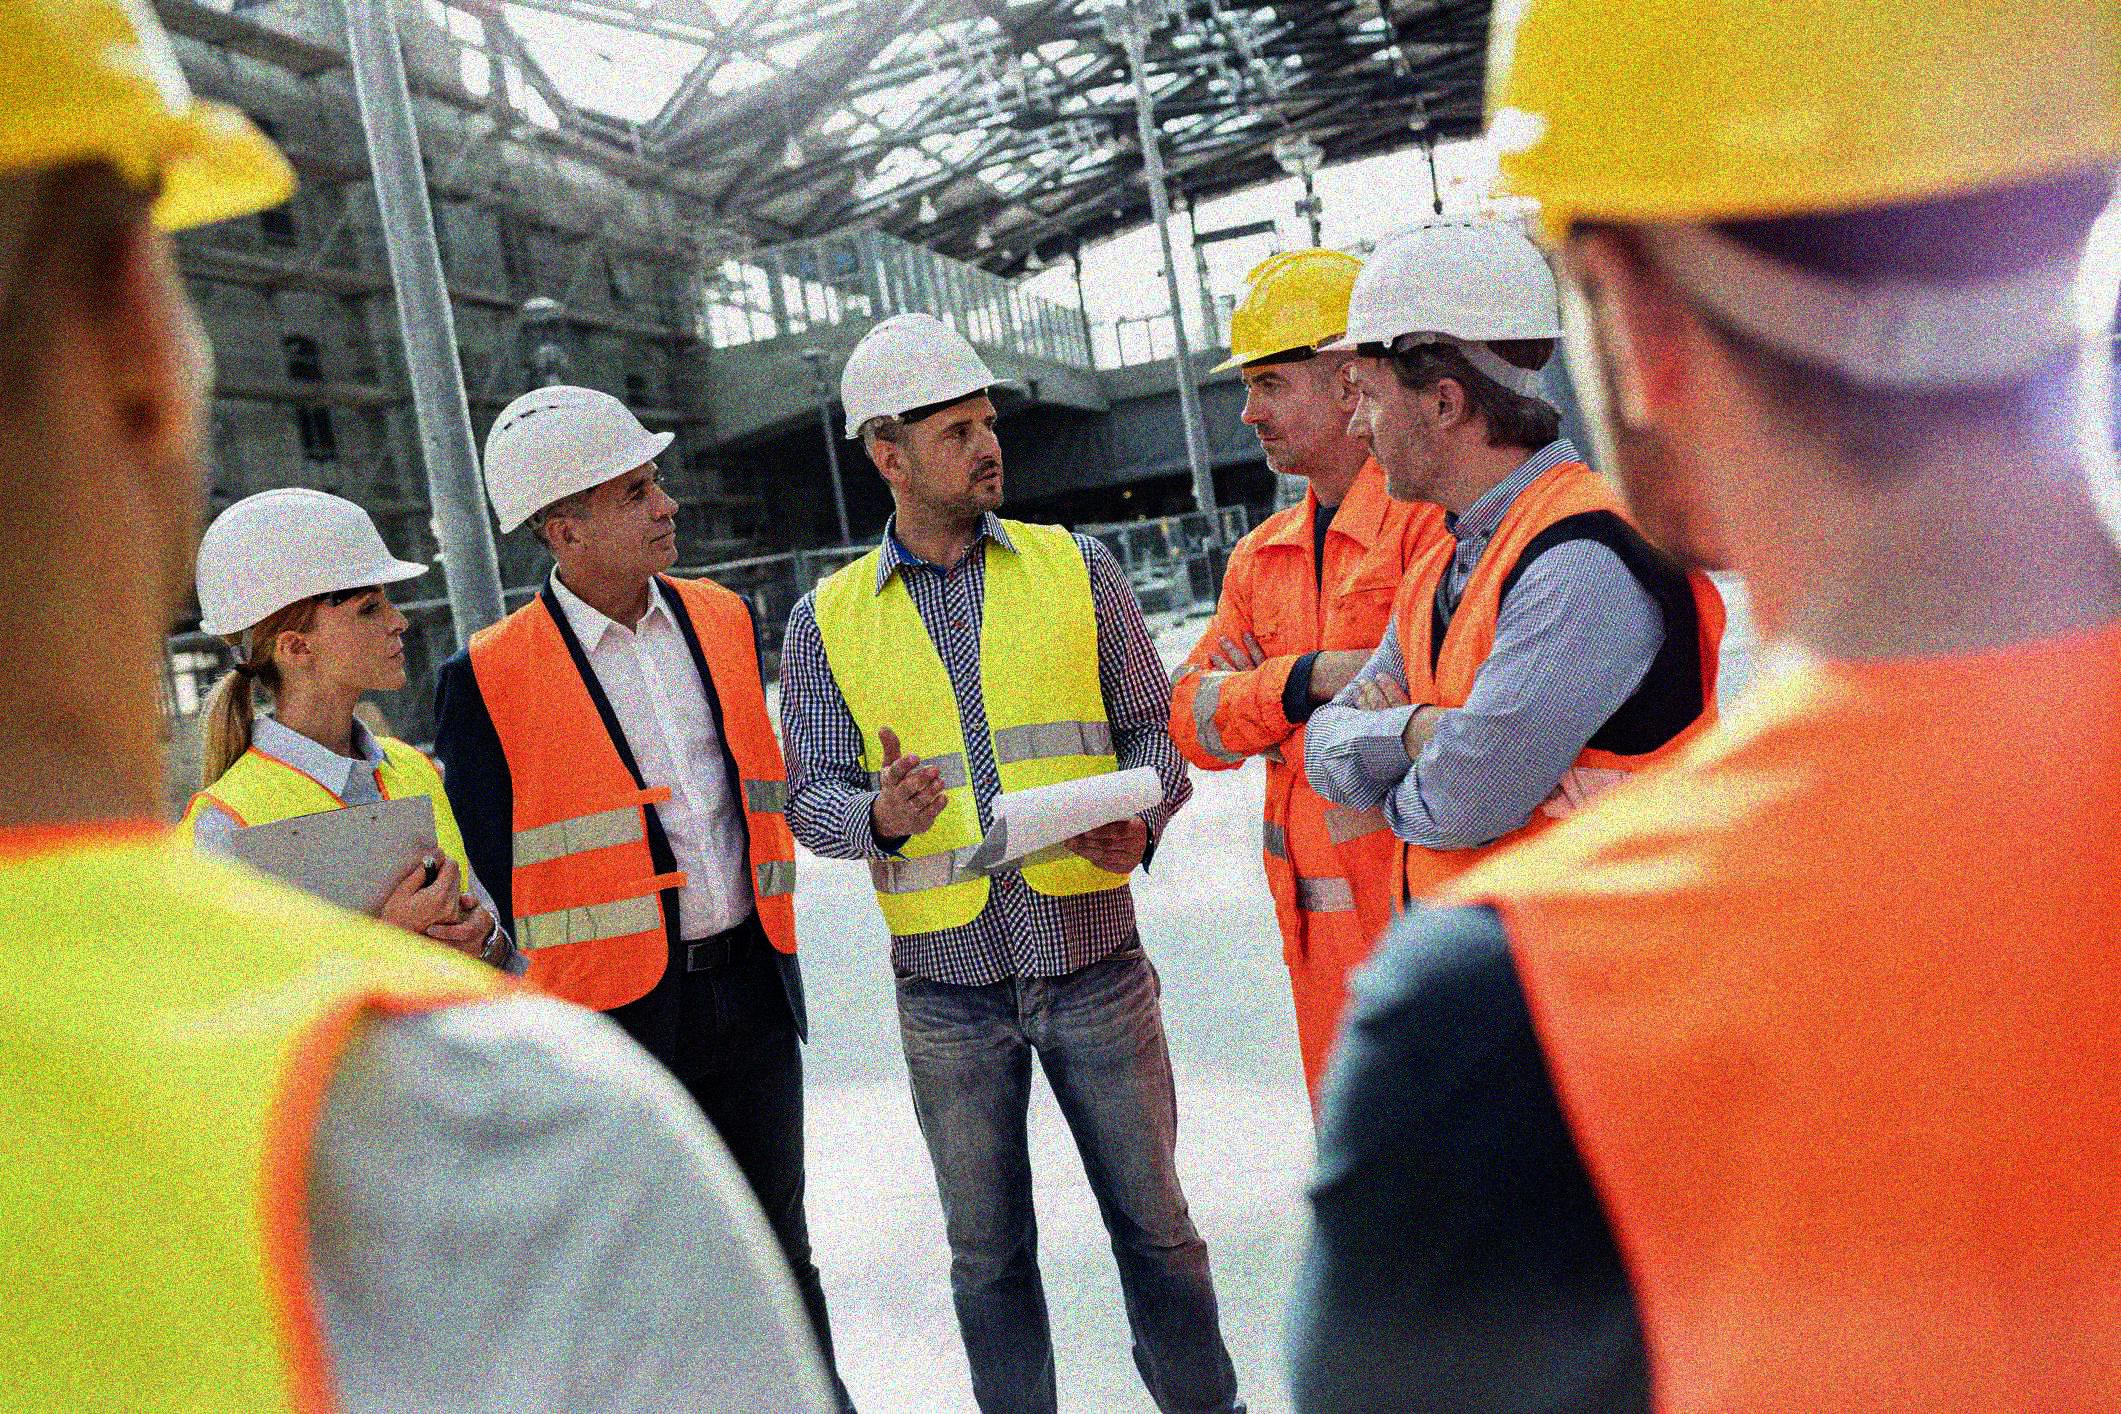helmet: (1471, 2, 2121, 570), (2, 2, 309, 720), (1319, 215, 1572, 499), (193, 484, 442, 699), (475, 382, 690, 589), (838, 308, 1016, 521), (1207, 245, 1368, 473)
